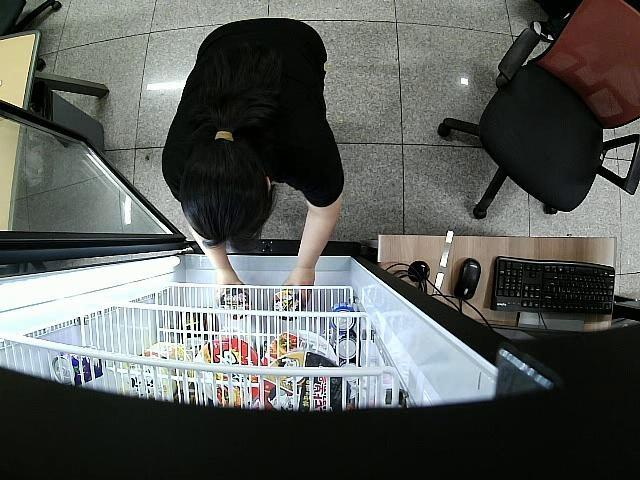08_buldak_S: (222, 285, 252, 320), (274, 289, 304, 318)
